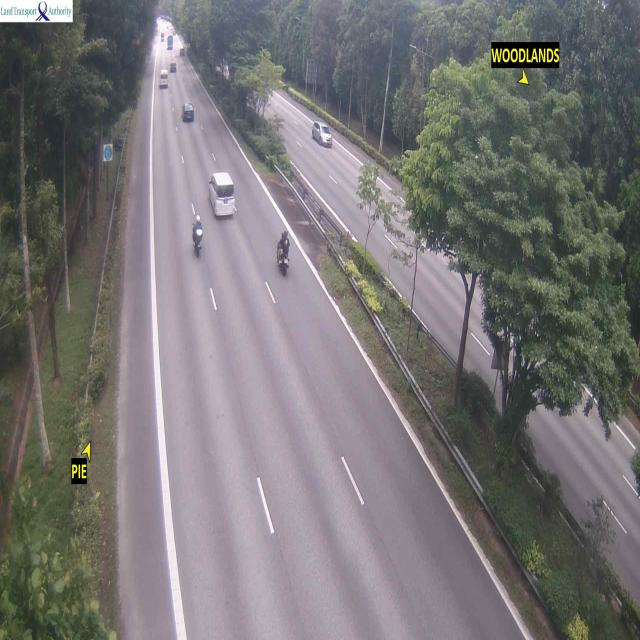vehicles: (208, 171, 236, 220), (310, 111, 335, 160), (274, 231, 294, 277), (193, 217, 209, 254), (180, 105, 199, 133), (160, 69, 176, 101), (166, 31, 176, 53)
